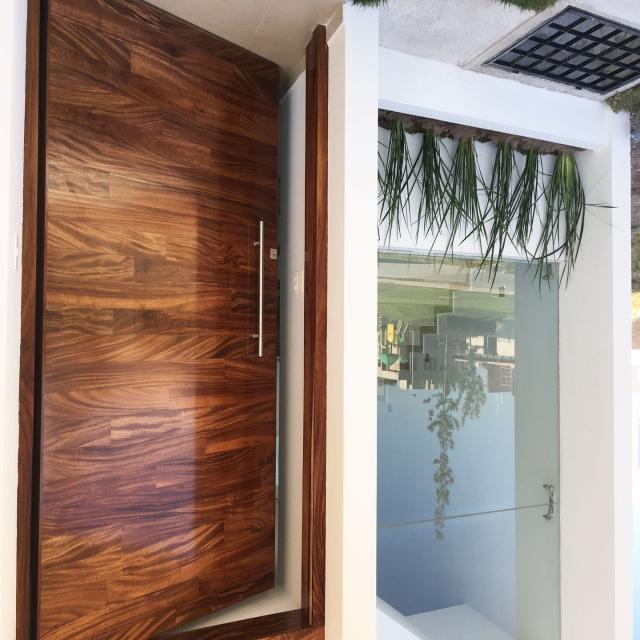door: (23, 1, 285, 640)
